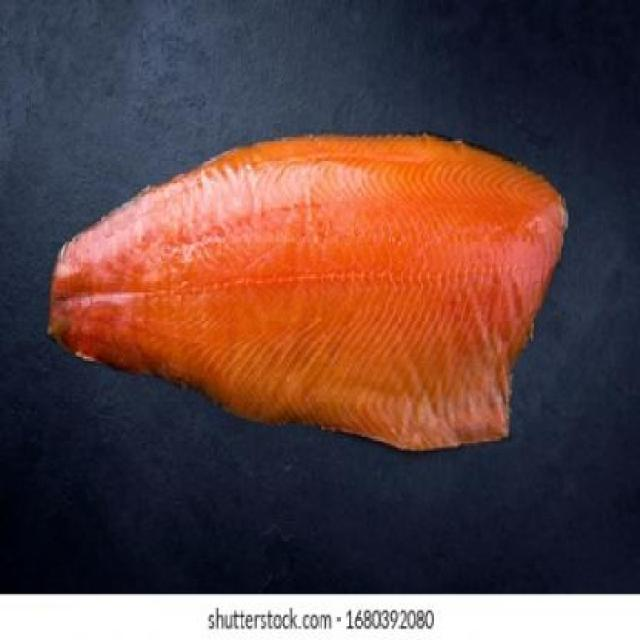salmon: (46, 101, 579, 502)
